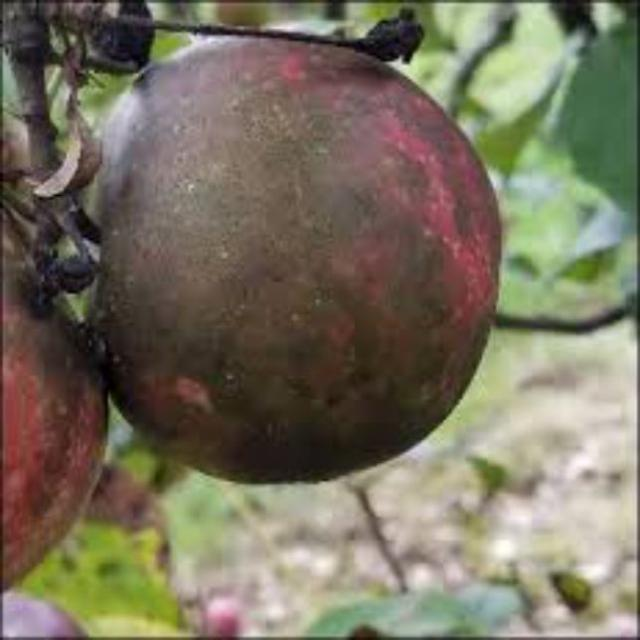Rotten Apple: (65, 0, 538, 499)
